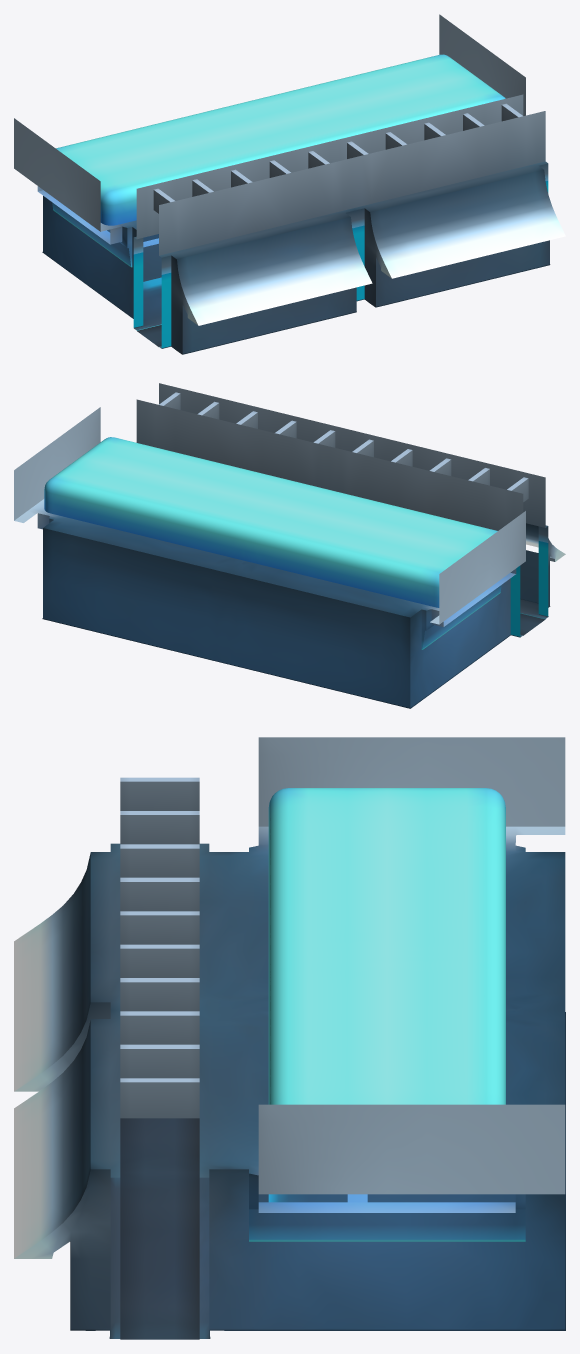
Rendered from M_Big_room.fbx.
3 views of the same model, one above another, from view 1: azimuth 30°, elevation 25°; view 2: azimuth 150°, elevation 25°; view 3: azimuth 270°, elevation 25° (orthographic). The views are drawn at different scales.
Visible parts, largest first — view 1: Room.004; view 2: Room.004; view 3: Room.004.
Boxes of the visible parts, x1=… form: Room.004: x1=14, y1=14, x2=565, y2=354; Room.004: x1=14, y1=383, x2=565, y2=708; Room.004: x1=14, y1=737, x2=565, y2=1339.
Bounding box in the file's own units: 4400 × 1405 × 2793.
